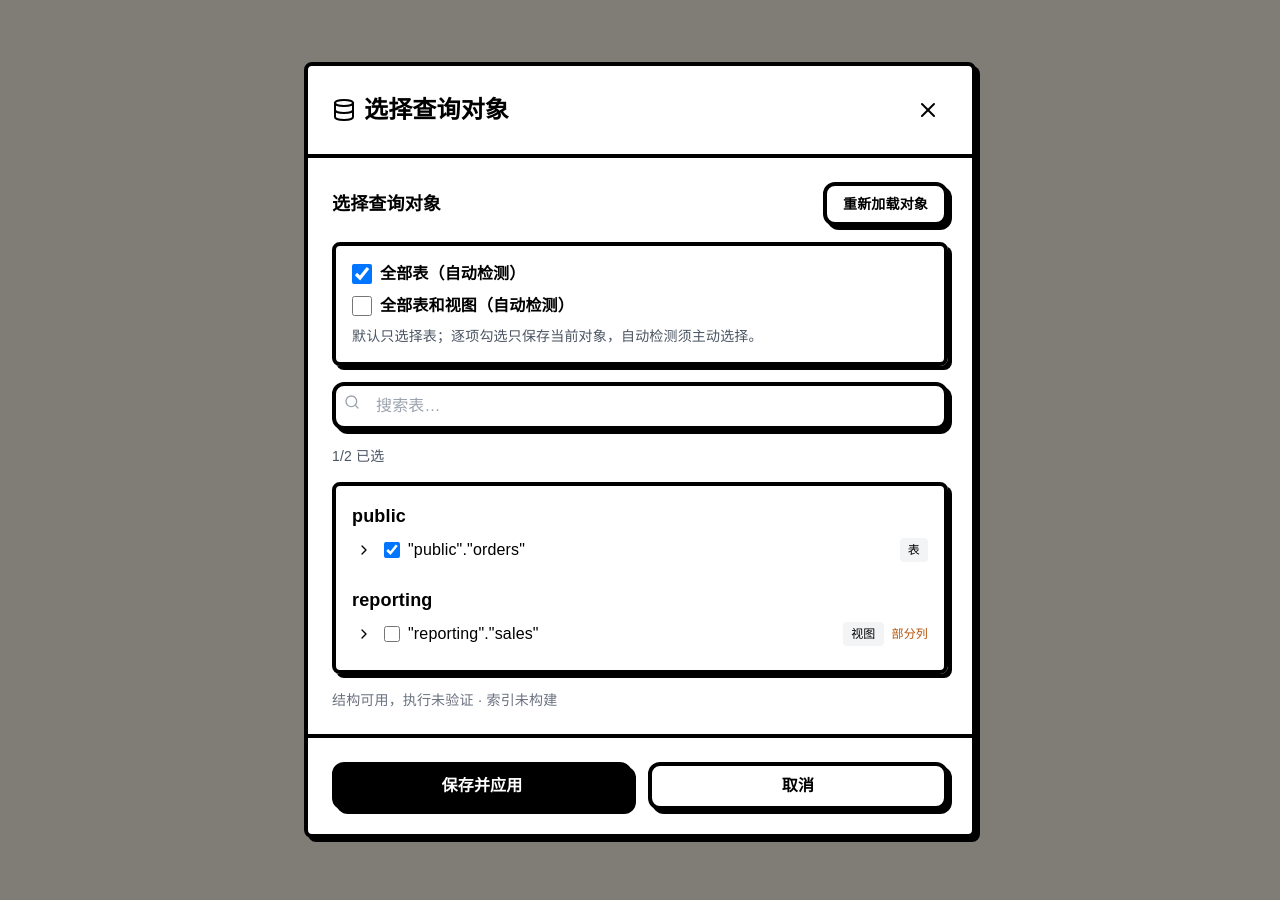
Test: schema groups, view badges and unknown nullable are presented honestly
Expected: the heading "reporting" is shown, x1=352 y1=590 x2=432 y2=610
Expected: the text "视图" is shown, x1=843 y1=622 x2=884 y2=646
Step 1. Click the button named "展开 \"reporting\".\"sales\"" → x=364, y=634, box x1=352 y1=622 x2=376 y2=646
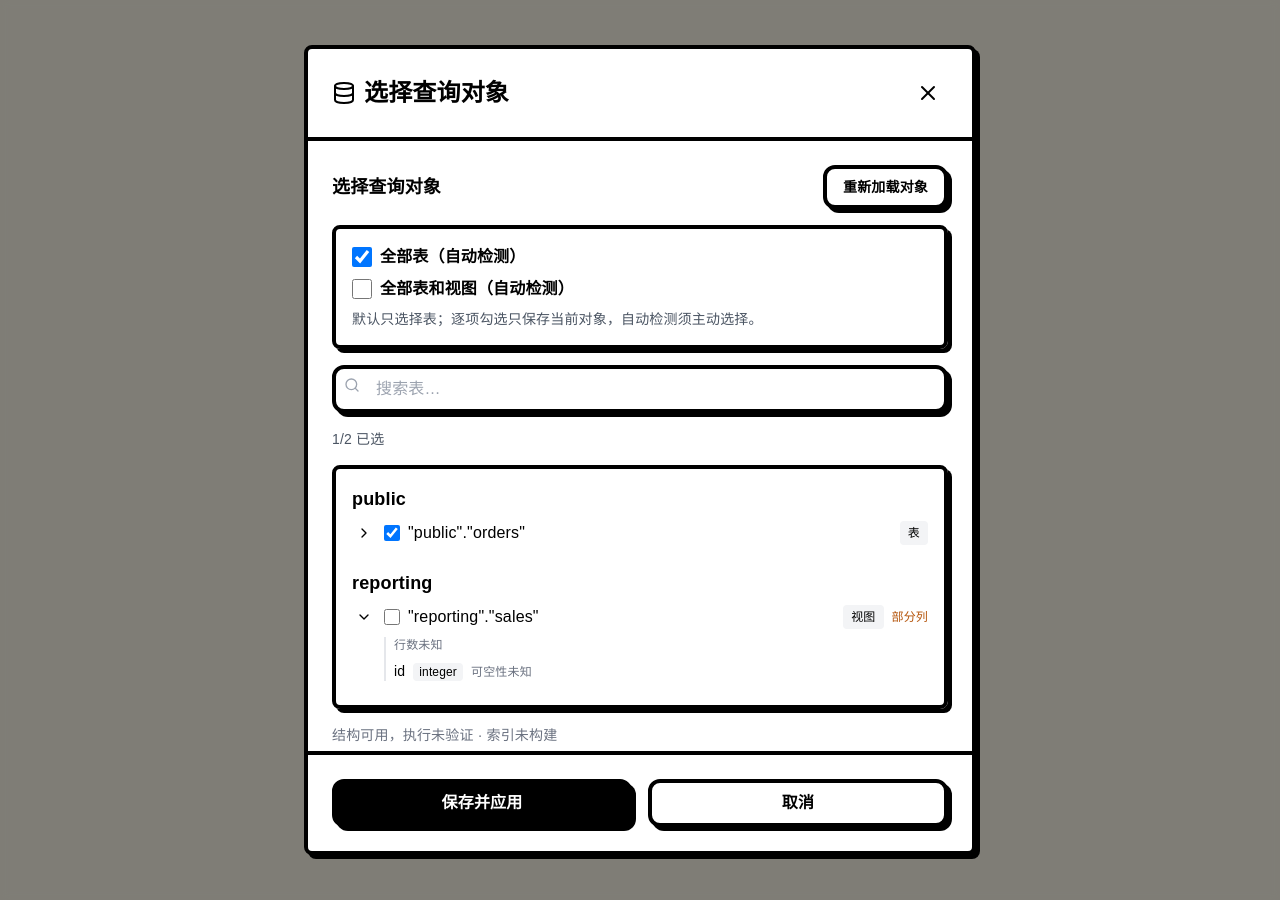
Expected: the text "部分列" is shown, x1=892 y1=609 x2=928 y2=625
Result: the text "可空性未知" is shown at x1=471 y1=665 x2=532 y2=679
